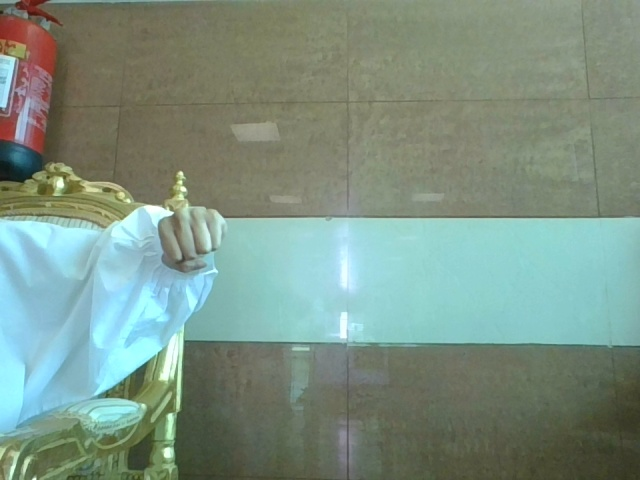Yes: (125, 167, 280, 298)
